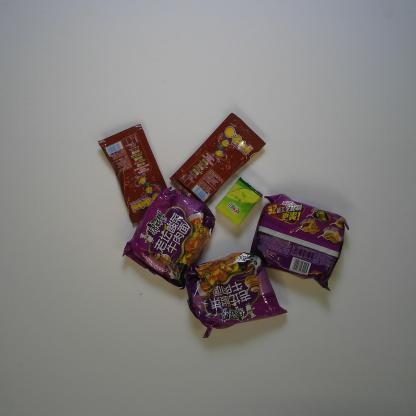Candy: (168, 112, 268, 206), (96, 123, 174, 228)
Instant Noodles: (246, 194, 351, 292), (120, 186, 217, 292), (181, 250, 289, 339)
Tissue: (214, 177, 264, 228)
